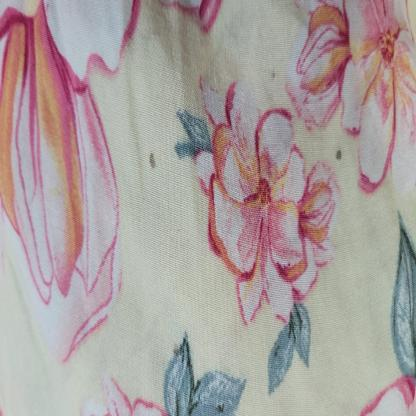spot: (148, 143, 158, 178), (268, 56, 279, 86), (332, 139, 343, 164)
